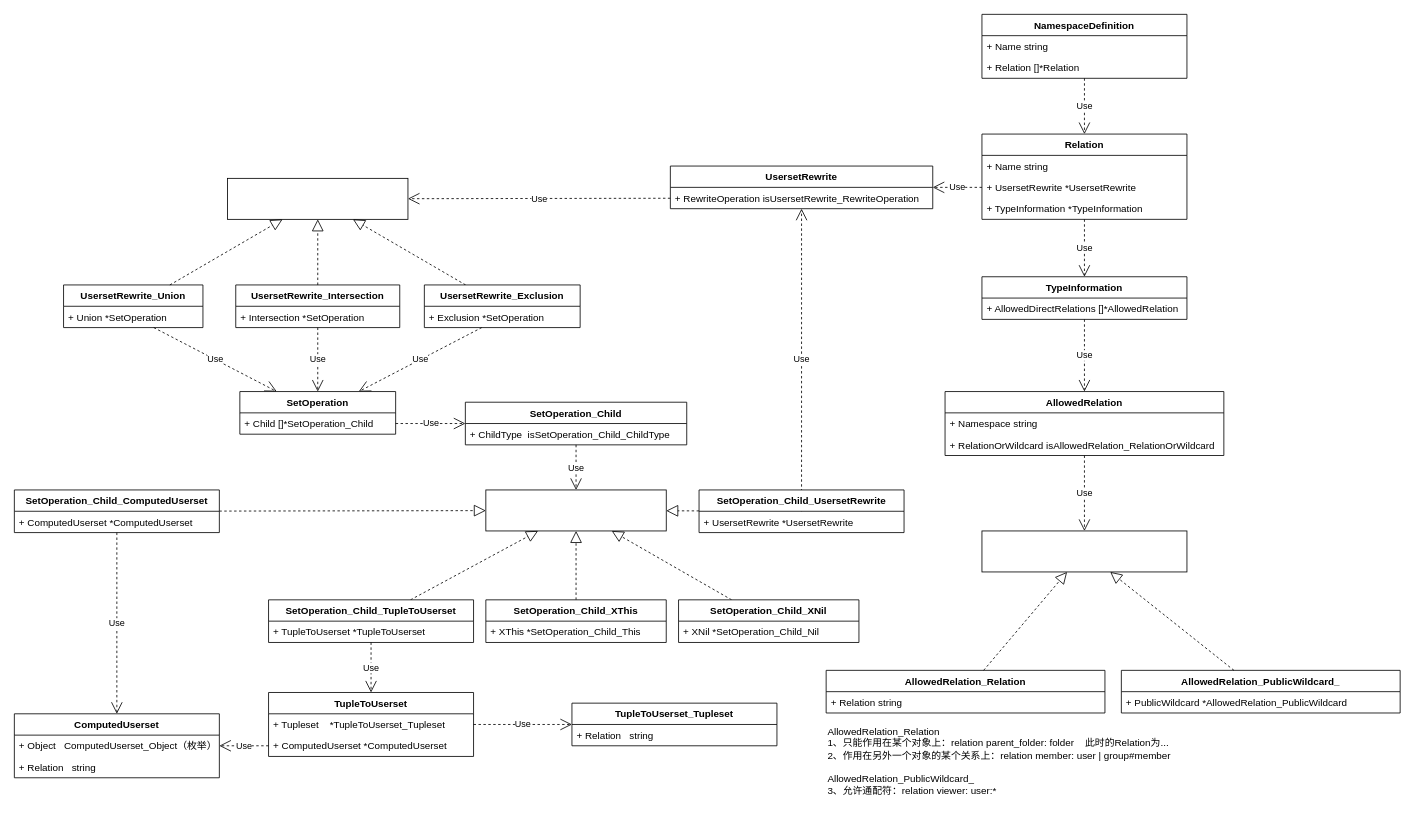
Some shapes in this 1415 by 832 pixel diagram are drawn without their labels. Each missing label, with the centre of its shape:
"«interface» isAllowedRelation_RelationOrWildcard" belongs at pixel 1084 551.
"«interface» isSetOperation_Child_ChildType" belongs at pixel 575 510.
"«interface» isUsersetRewrite_RewriteOperation" belongs at pixel 317 198.
